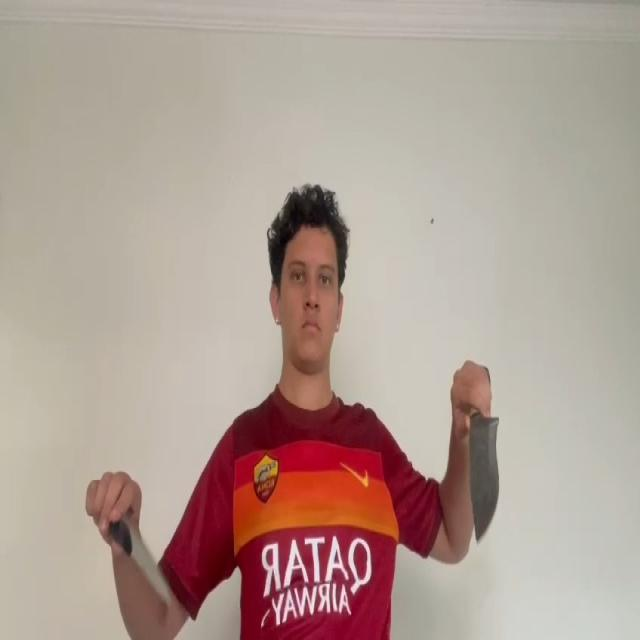knife: (470, 405, 502, 555)
